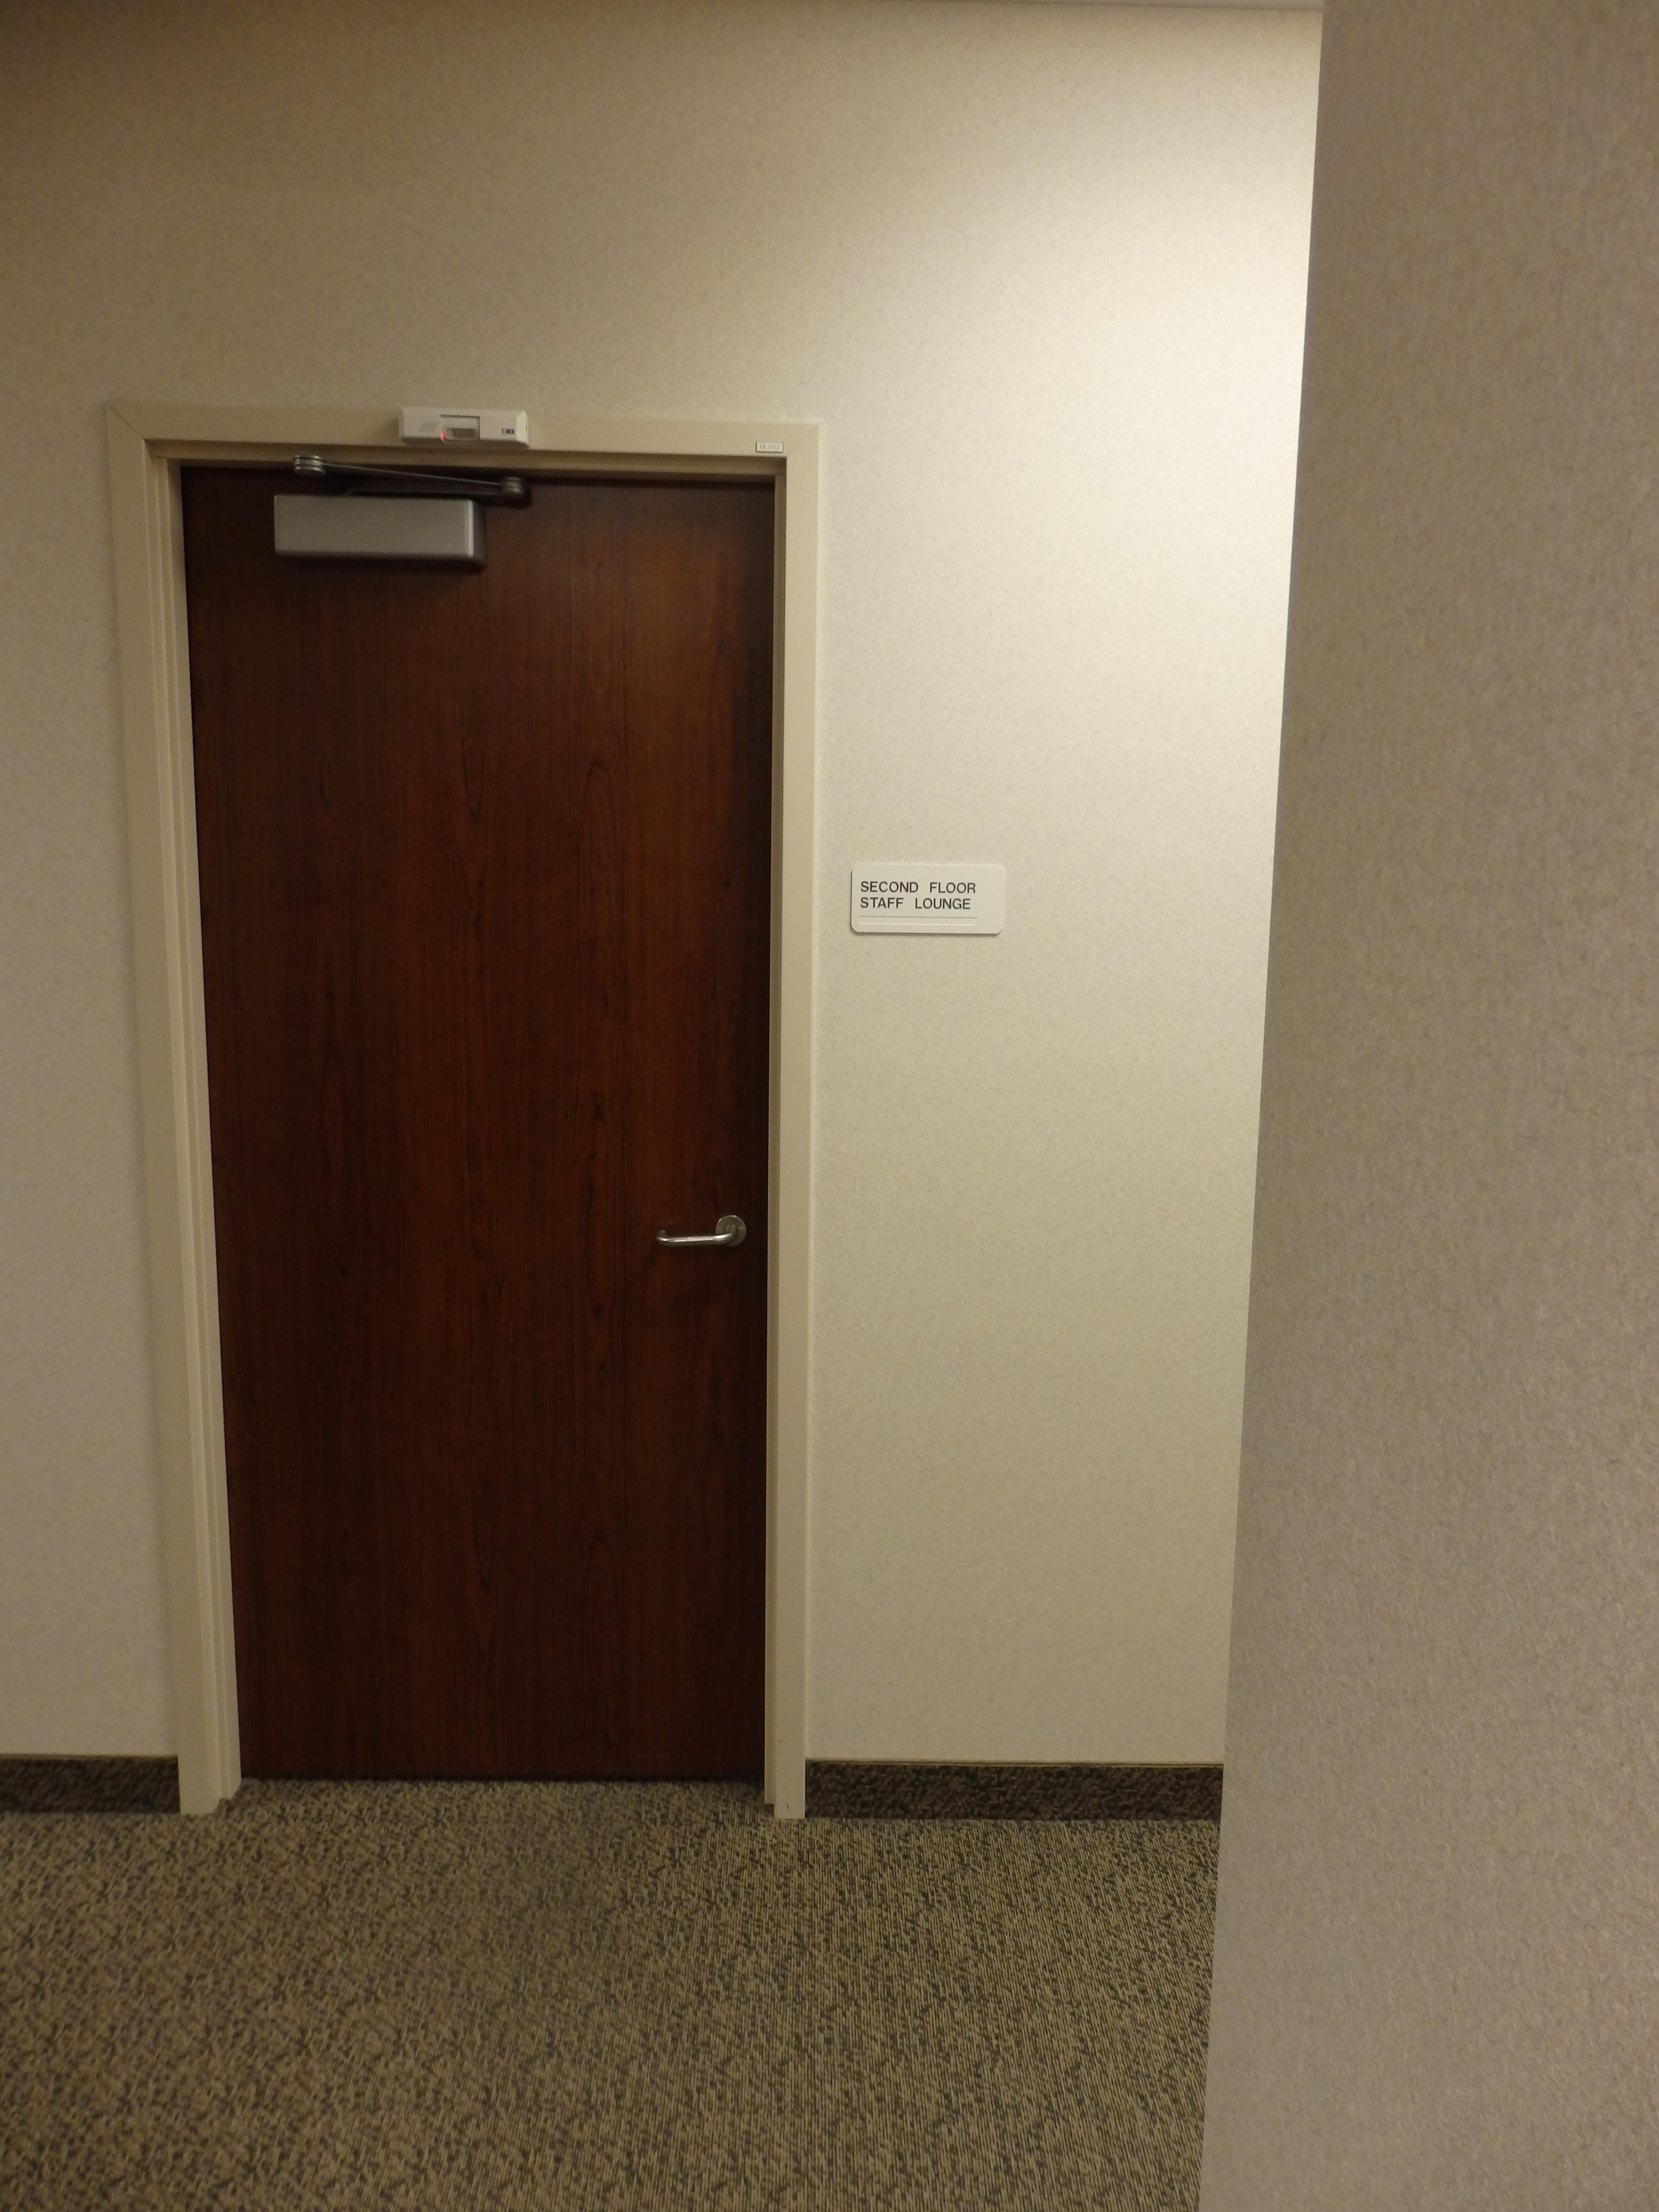door: (145, 437, 796, 1796)
